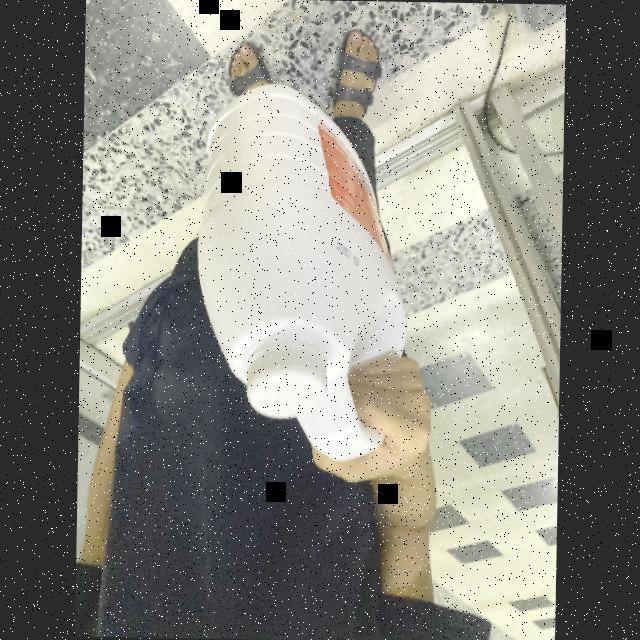chemical_plastic_gallon: (197, 79, 415, 468)
